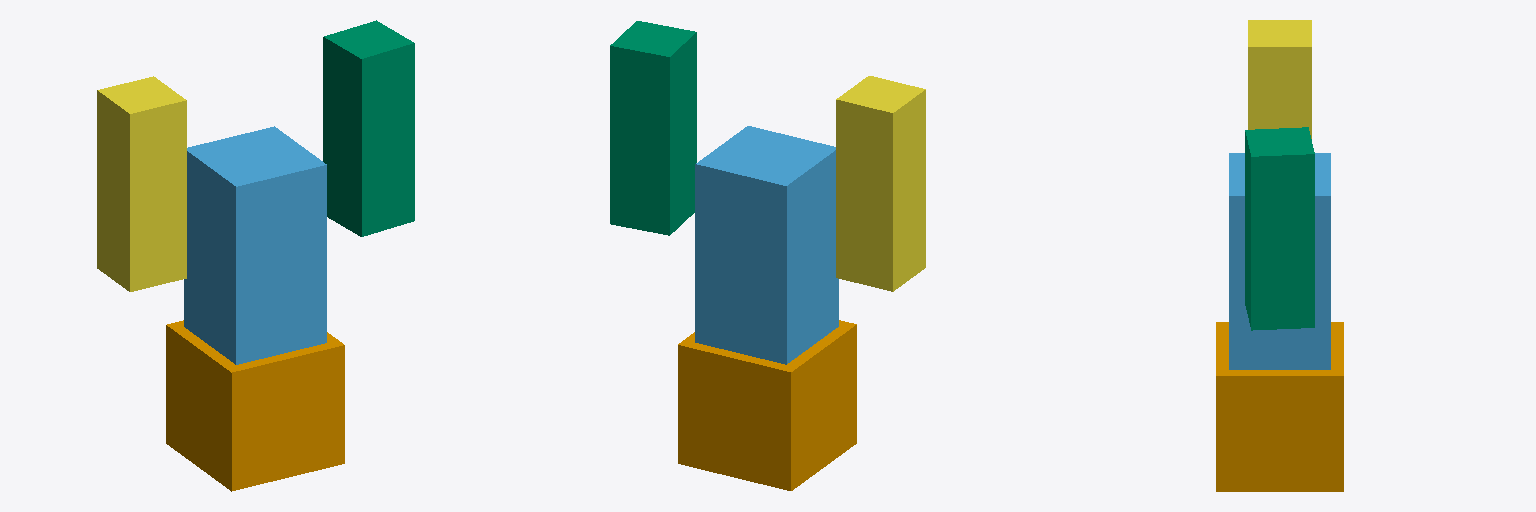
robot.urdf — test_mimic:
<?xml version="1.0"?>
<!-- Test URDF for mimic joint parsing.
     This file tests that mimic joints are correctly configured regardless of parse order.
     - "a_mimic_joint" is lexicographically BEFORE "source_joint" (tests deferred configuration)
     - "z_mimic_joint" is lexicographically AFTER "source_joint" (standard case)
-->
<robot name="test_mimic">
  <link name="base_link">
    <visual>
      <geometry>
        <box size="0.1 0.1 0.1"/>
      </geometry>
    </visual>
    <collision>
      <geometry>
        <box size="0.1 0.1 0.1"/>
      </geometry>
    </collision>
    <inertial>
      <mass value="1.0"/>
      <inertia ixx="0.01" ixy="0" ixz="0" iyy="0.01" iyz="0" izz="0.01"/>
    </inertial>
  </link>

  <link name="link_source">
    <visual>
      <geometry>
        <box size="0.08 0.08 0.2"/>
      </geometry>
    </visual>
    <collision>
      <geometry>
        <box size="0.08 0.08 0.2"/>
      </geometry>
    </collision>
    <inertial>
      <mass value="0.5"/>
      <inertia ixx="0.001" ixy="0" ixz="0" iyy="0.001" iyz="0" izz="0.001"/>
    </inertial>
  </link>

  <link name="link_a">
    <visual>
      <geometry>
        <box size="0.05 0.05 0.15"/>
      </geometry>
    </visual>
    <collision>
      <geometry>
        <box size="0.05 0.05 0.15"/>
      </geometry>
    </collision>
    <inertial>
      <mass value="0.3"/>
      <inertia ixx="0.0005" ixy="0" ixz="0" iyy="0.0005" iyz="0" izz="0.0005"/>
    </inertial>
  </link>

  <link name="link_z">
    <visual>
      <geometry>
        <box size="0.05 0.05 0.15"/>
      </geometry>
    </visual>
    <collision>
      <geometry>
        <box size="0.05 0.05 0.15"/>
      </geometry>
    </collision>
    <inertial>
      <mass value="0.3"/>
      <inertia ixx="0.0005" ixy="0" ixz="0" iyy="0.0005" iyz="0" izz="0.0005"/>
    </inertial>
  </link>

  <!-- Source joint that other joints will mimic -->
  <joint name="source_joint" type="revolute">
    <parent link="base_link"/>
    <child link="link_source"/>
    <origin xyz="0 0 0.1"/>
    <axis xyz="0 0 1"/>
    <limit lower="-1.57" upper="1.57" effort="100" velocity="1.0"/>
  </joint>

  <!-- Mimic joint with name lexicographically BEFORE source_joint -->
  <!-- This tests that mimic configuration works even when parsed before source -->
  <joint name="a_mimic_joint" type="revolute">
    <parent link="link_source"/>
    <child link="link_a"/>
    <origin xyz="0.1 0 0.1"/>
    <axis xyz="0 0 1"/>
    <limit lower="-3.14" upper="3.14" effort="50" velocity="1.0"/>
    <mimic joint="source_joint" multiplier="1.5" offset="0.1"/>
  </joint>

  <!-- Mimic joint with name lexicographically AFTER source_joint -->
  <!-- Standard case where source exists when mimic is parsed -->
  <joint name="z_mimic_joint" type="revolute">
    <parent link="link_source"/>
    <child link="link_z"/>
    <origin xyz="-0.1 0 0.1"/>
    <axis xyz="0 0 1"/>
    <limit lower="-3.14" upper="3.14" effort="50" velocity="1.0"/>
    <mimic joint="source_joint" multiplier="-1.0" offset="0.0"/>
  </joint>
</robot>

--- Render facts (derived) ---
Views: 3 orthographic renders of the robot side by side, from view 1: azimuth 30°, elevation 25°; view 2: azimuth 150°, elevation 25°; view 3: azimuth 270°, elevation 25°.
Robot: test_mimic — 4 links, 3 joints (3 revolute); root link base_link; default pose: every joint at zero.
Visible links, largest first — view 1: link_source, base_link, link_a, link_z; view 2: link_source, base_link, link_z, link_a; view 3: base_link, link_a, link_source, link_z.
Link boxes in pixels (box(x1,y1,x2,y2)): link_source: box(184, 126, 326, 364); base_link: box(166, 320, 344, 491); link_a: box(323, 20, 414, 236); link_z: box(97, 76, 186, 291); link_source: box(695, 126, 838, 364); base_link: box(678, 320, 856, 490); link_z: box(836, 76, 925, 291); link_a: box(610, 21, 696, 235); base_link: box(1216, 322, 1343, 491); link_a: box(1245, 127, 1314, 330); link_source: box(1229, 153, 1330, 369); link_z: box(1248, 20, 1311, 138).
Size in the robot's own frame: 0.2524 by 0.1 by 0.325 metres.
Geometry: primitives only (box / cylinder / sphere), no mesh files.
